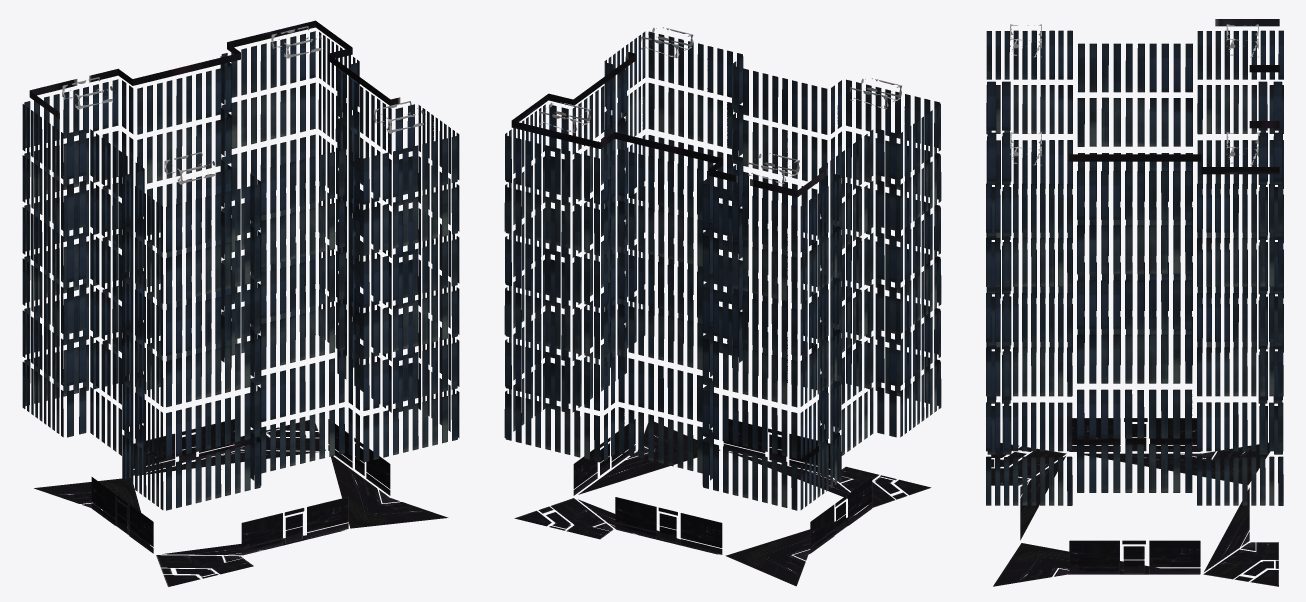
The model's file is si_building_12.fbx.
The picture shows the model from 3 angles, left to right: view 1: azimuth 30°, elevation 25°; view 2: azimuth 150°, elevation 25°; view 3: azimuth 270°, elevation 25°; orthographic projection. The views are drawn at different scales.
Parts seen in each view (by area): view 1: si_building_12; view 2: si_building_12; view 3: si_building_12.
Part boxes in pixels (box(x1,y1,x2,y2)): si_building_12: box(22, 20, 459, 586); si_building_12: box(504, 27, 941, 586); si_building_12: box(986, 19, 1283, 586).
Size of the model in its own units: 93 by 117 by 78.
Materials: 1 (1 with a texture image).
